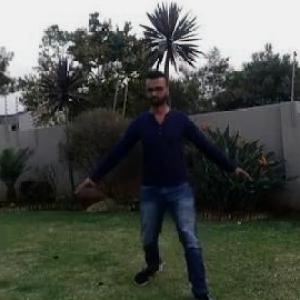land: (66, 62, 250, 299)
